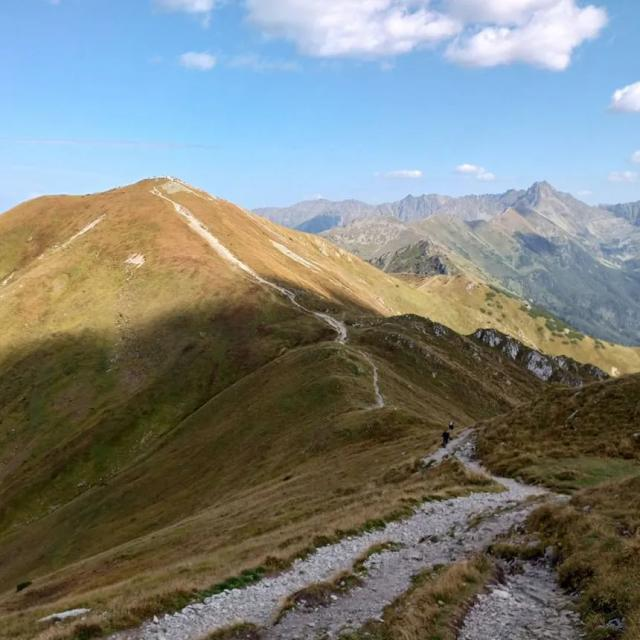Kopa Kondracka: (66, 118, 247, 239)
Kozi Wierch: (492, 172, 528, 204)
Skrajny i Posredni Granat: (377, 175, 451, 218)
Swinica: (503, 154, 580, 206)
